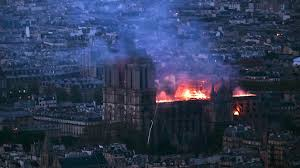fire: (149, 68, 248, 116)
